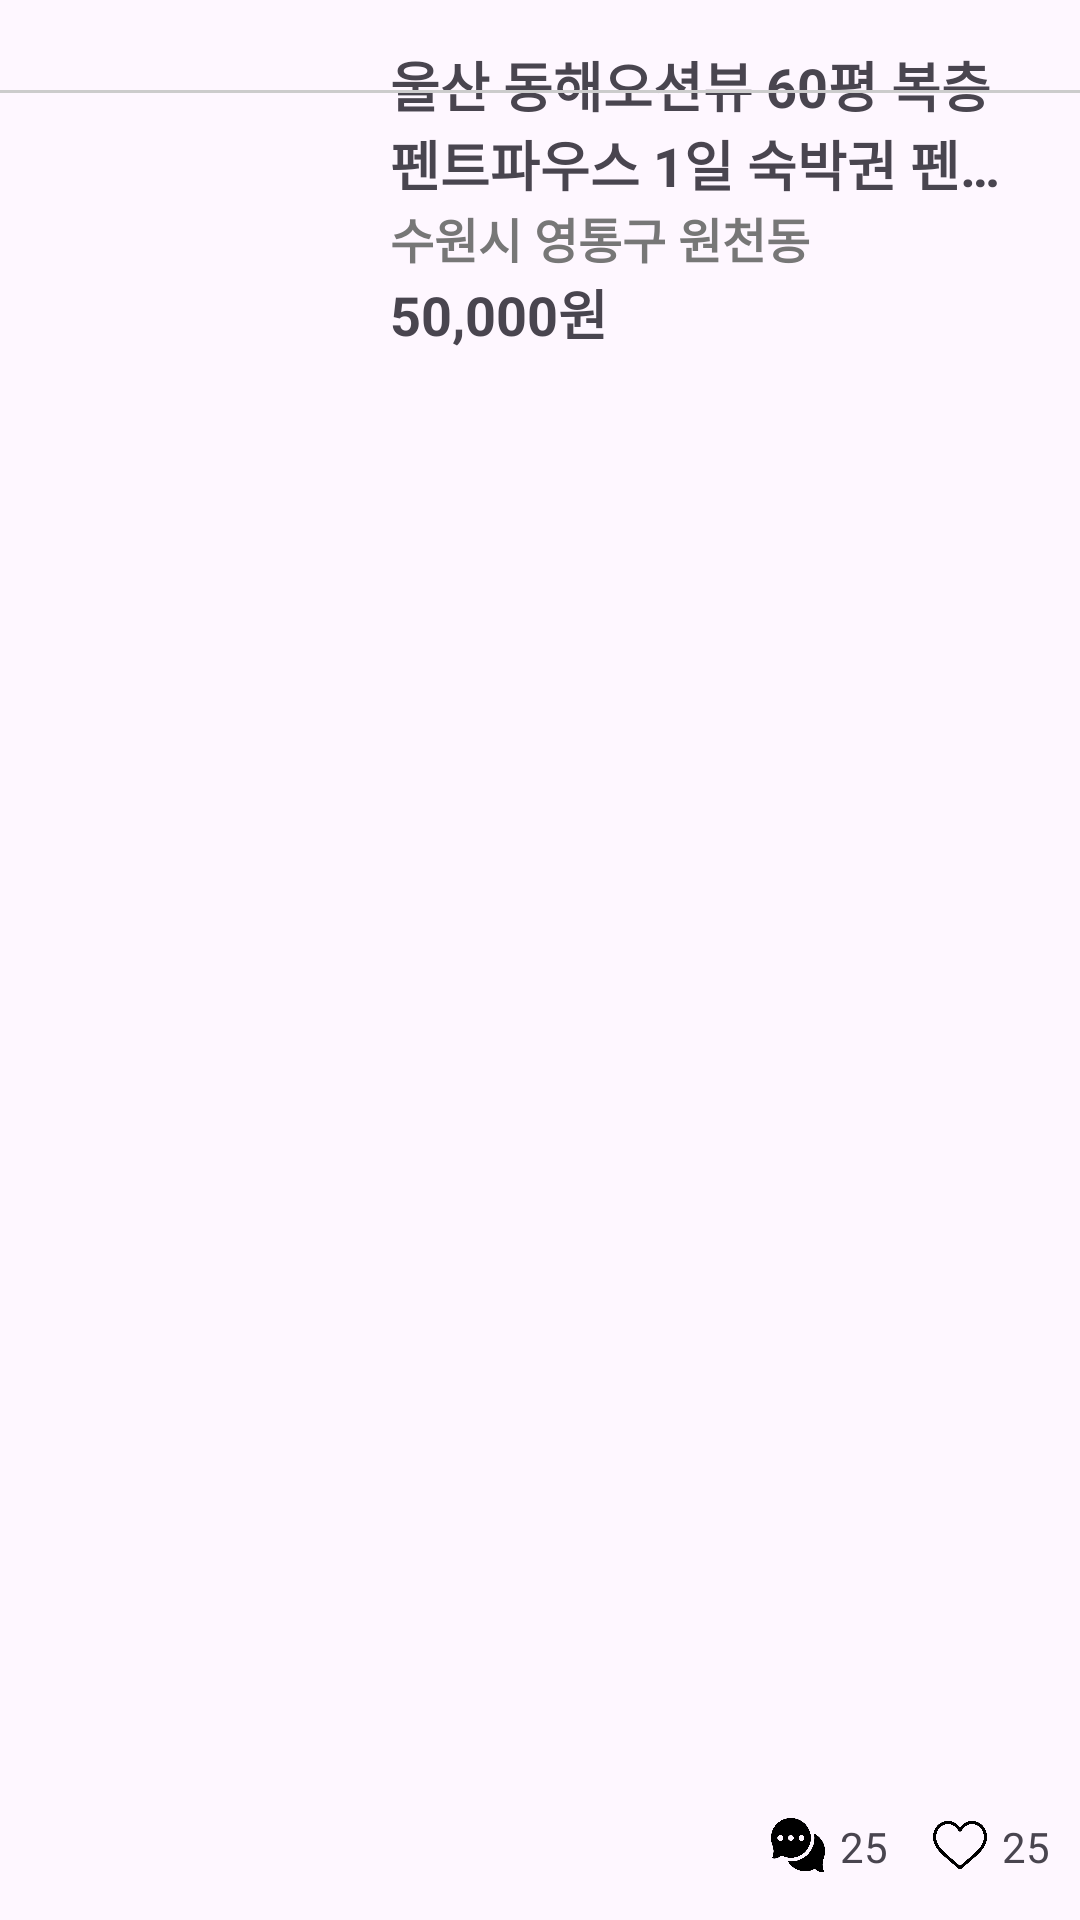

Named icons in this screenshot (1080×1920) and their bounding boxes, (x1, y1, x2, y2):
chat: (771, 1818, 825, 1872)
heart: (933, 1821, 987, 1869)
